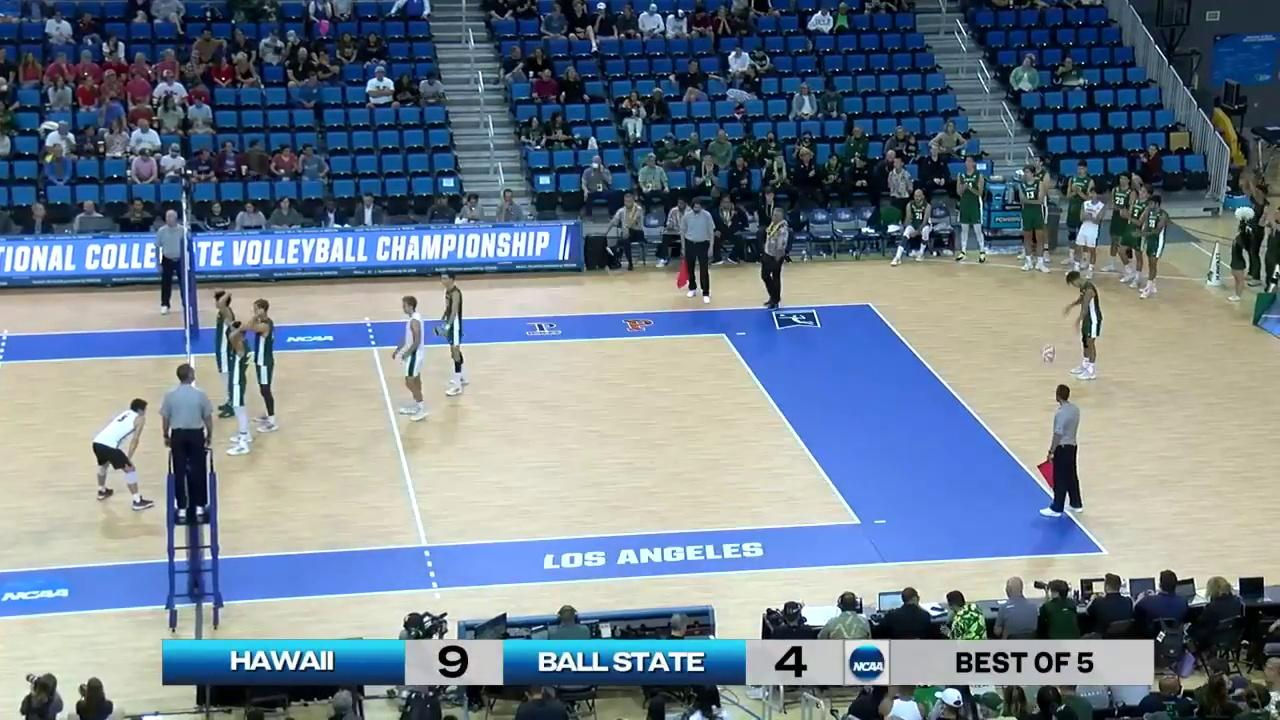player: (92, 399, 152, 512), (244, 298, 284, 434), (394, 296, 435, 422), (1067, 268, 1108, 380), (226, 319, 259, 457), (211, 289, 244, 417), (437, 273, 471, 397)
refree: (157, 366, 217, 515), (1041, 386, 1087, 515), (680, 199, 718, 299), (157, 210, 191, 312)
